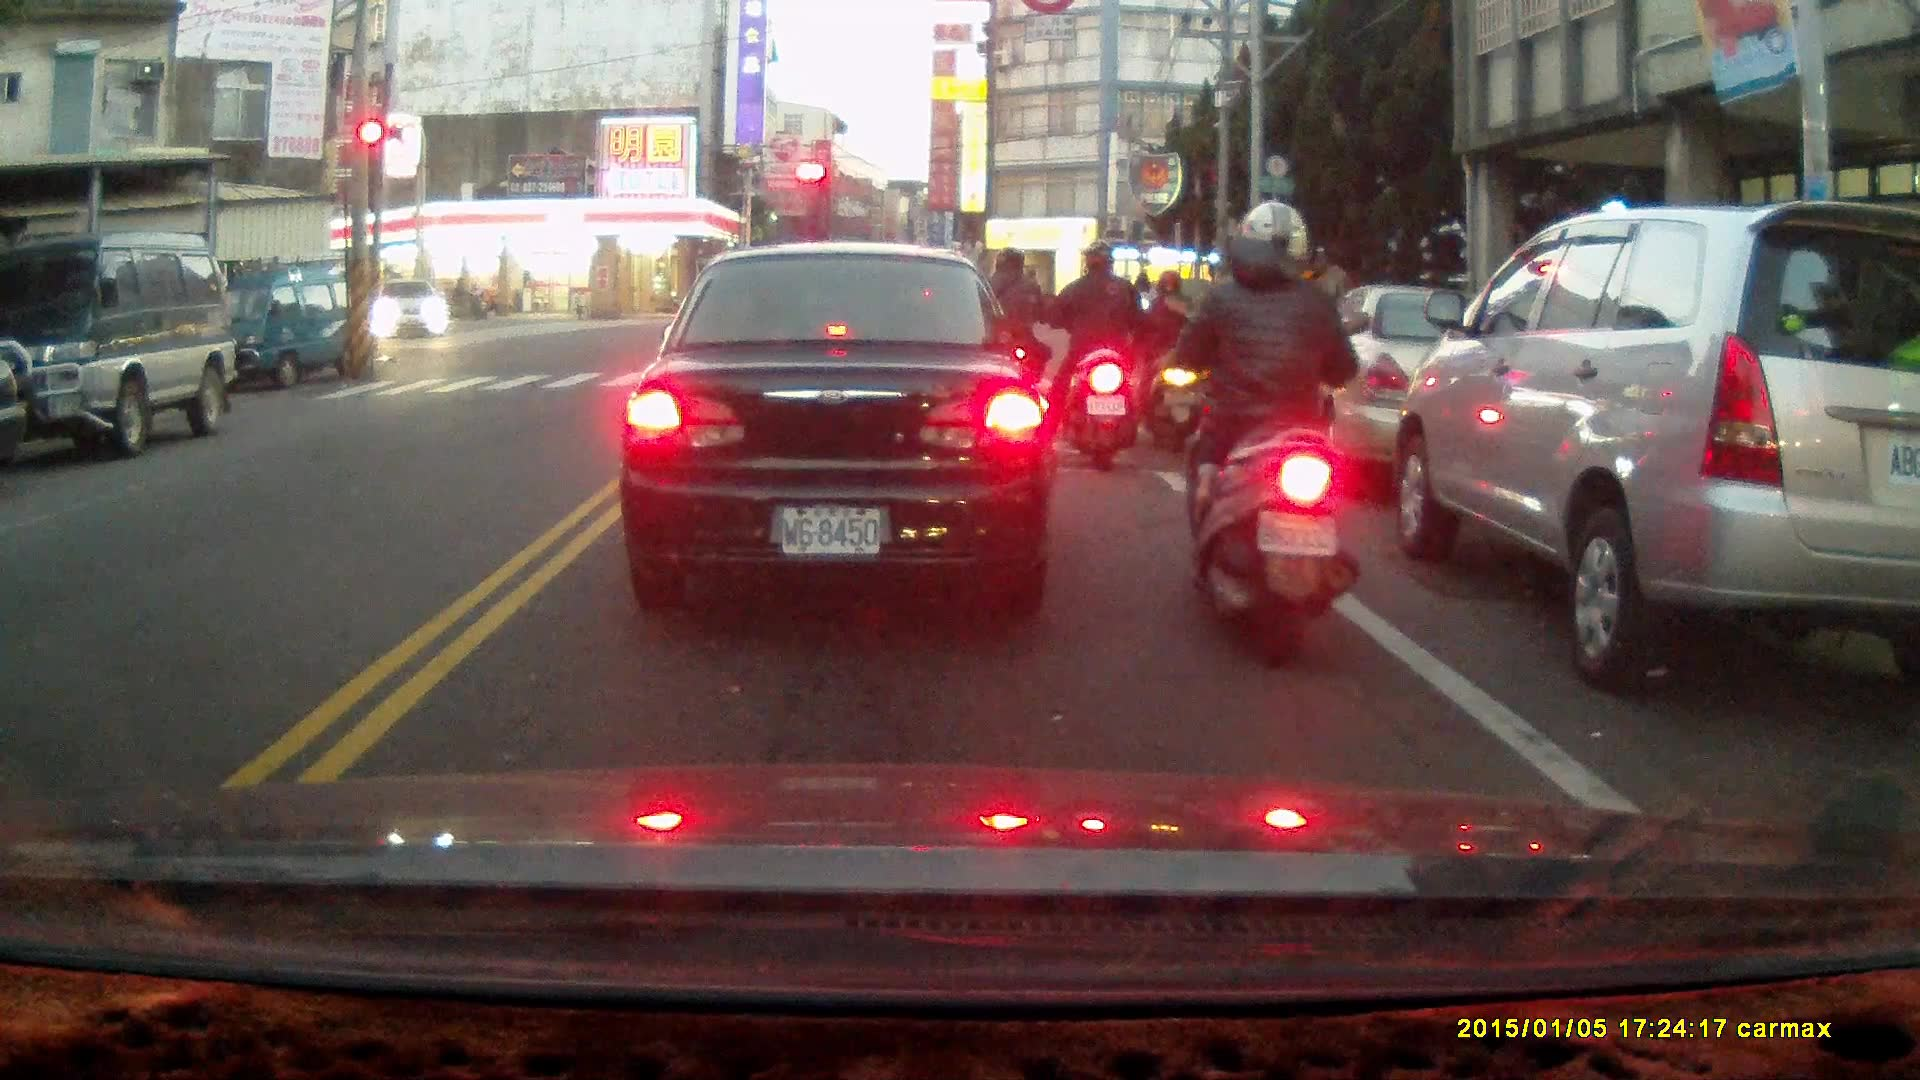rider: (1162, 197, 1369, 674), (1048, 242, 1141, 468), (962, 247, 1051, 430), (1135, 270, 1205, 451), (437, 277, 480, 316)
vehicle: (1382, 211, 1914, 696), (630, 245, 1056, 602), (1261, 286, 1601, 492), (1, 234, 239, 456), (188, 261, 380, 393), (372, 277, 451, 343)
